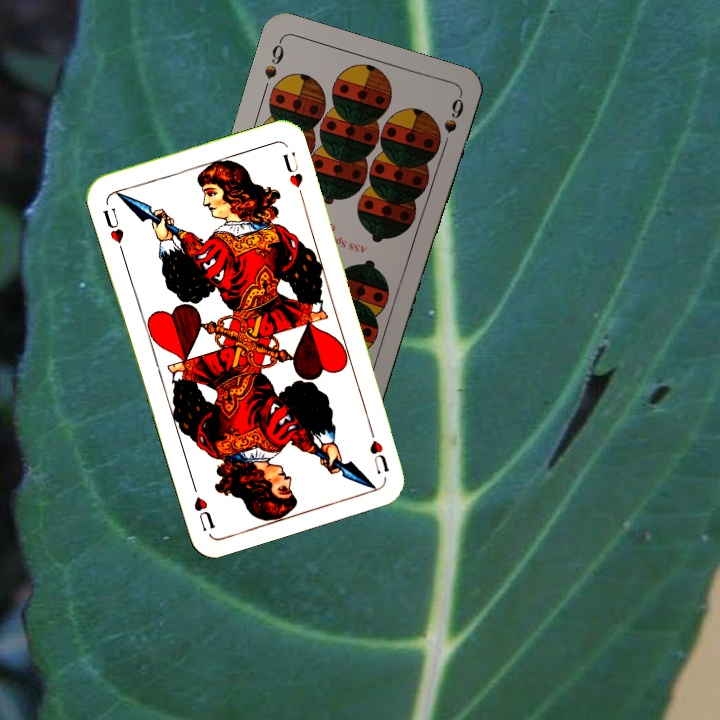HU: (364, 421, 392, 477), (98, 203, 127, 256)
S9: (260, 36, 287, 82)
